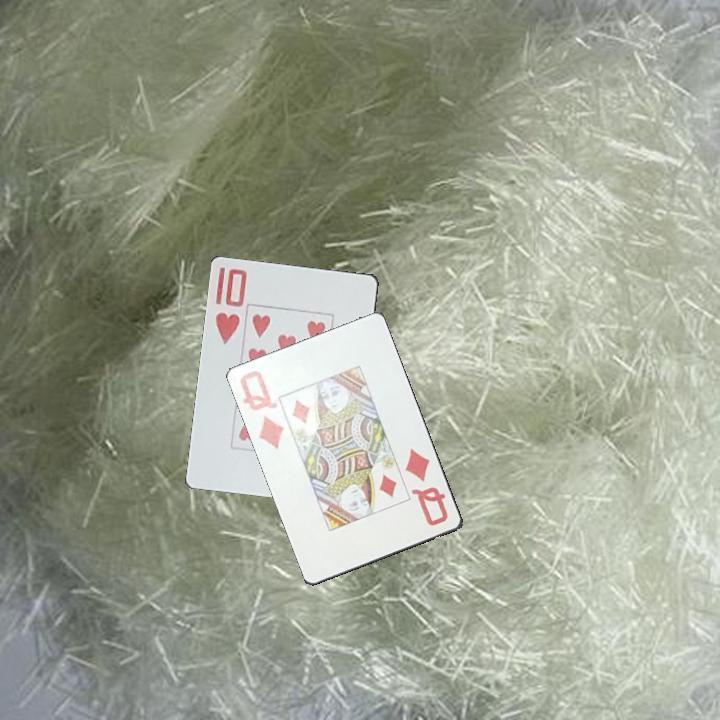Qd: (237, 367, 288, 452), (402, 445, 451, 529)
Th: (212, 264, 250, 347)
